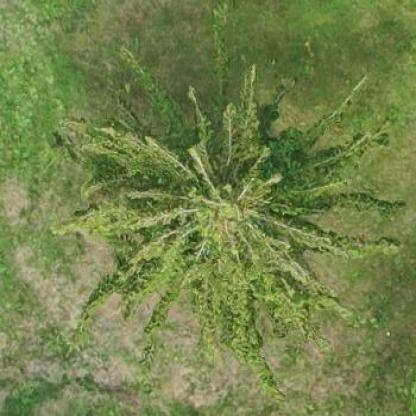Coniferous Tree: (48, 15, 416, 366)
